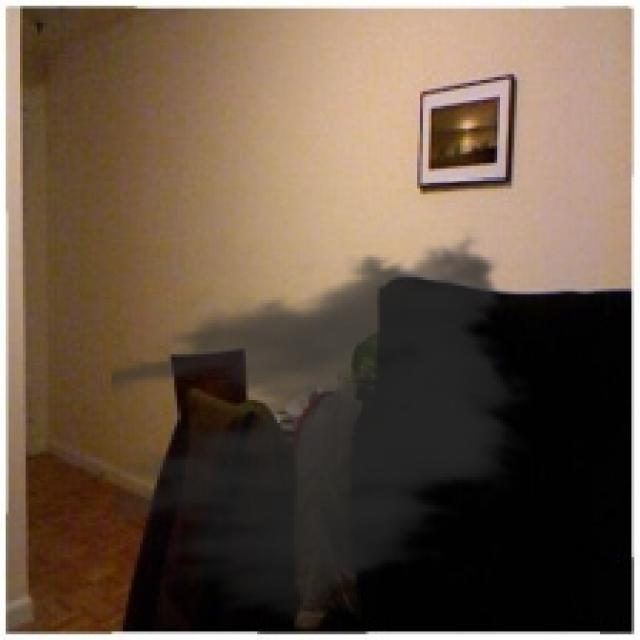smoke: (112, 226, 537, 631)
